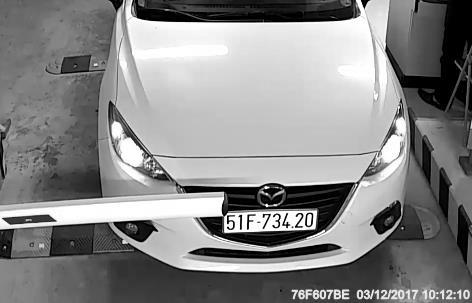License-plate: (216, 202, 327, 247)
